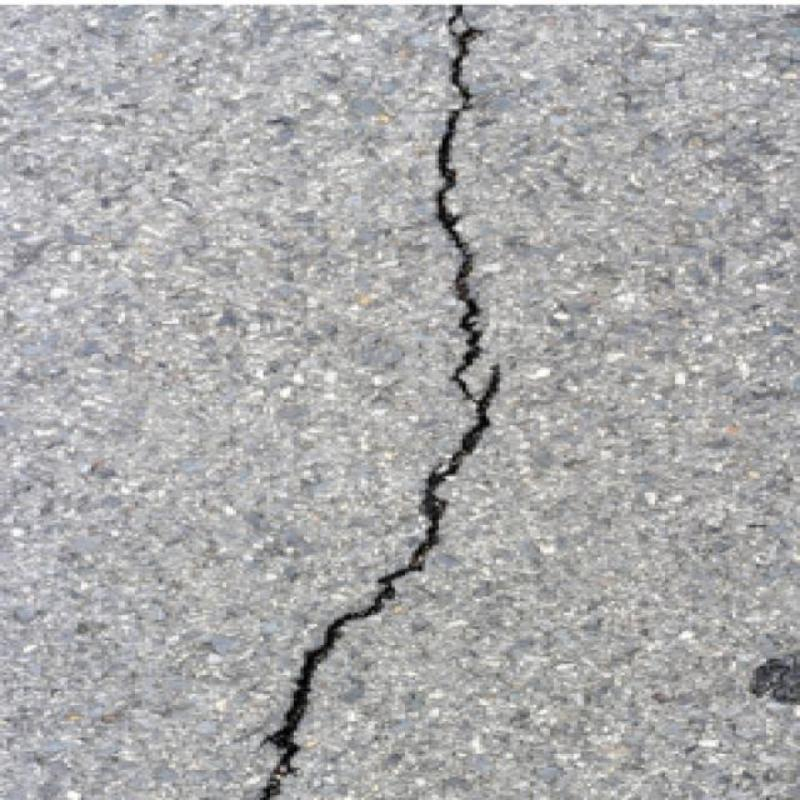pothole: (260, 6, 499, 799)
